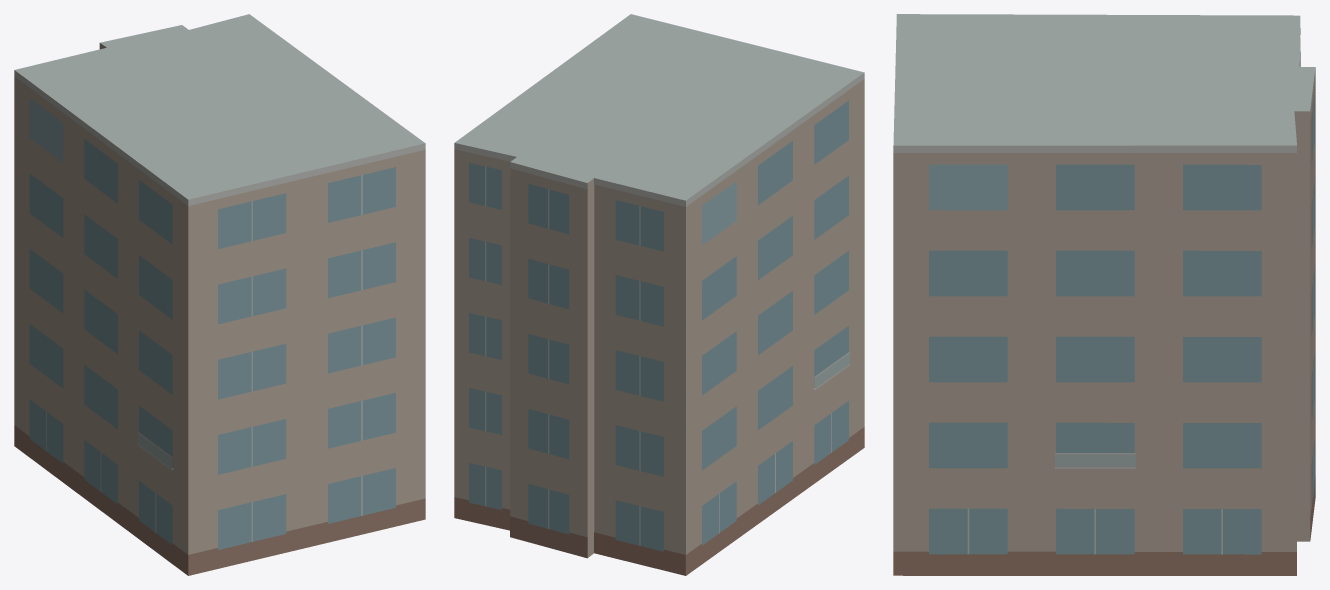
The model's file is survey-upis-32894079.glb.
3 renders of one model, left to right at view 1: azimuth 30°, elevation 25°; view 2: azimuth 150°, elevation 25°; view 3: azimuth 270°, elevation 25°, orthographic. The views are drawn at different scales.
Visible parts, largest first — view 1: survey-upis-32894079.tmp; view 2: survey-upis-32894079.tmp; view 3: survey-upis-32894079.tmp.
Boxes of the visible parts, box(x1,y1,x2,y2) form: survey-upis-32894079.tmp: box(14, 14, 425, 575); survey-upis-32894079.tmp: box(454, 14, 864, 575); survey-upis-32894079.tmp: box(893, 14, 1315, 575).
Size of the model in its own units: 9.59 by 14.5 by 12.91.
